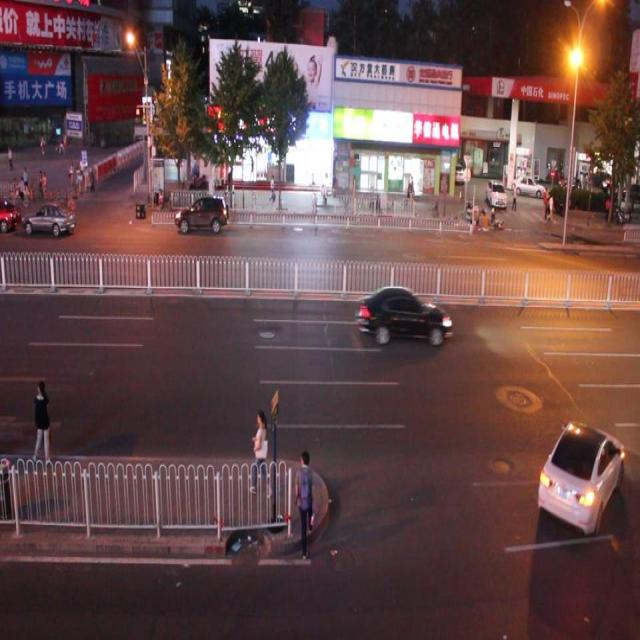car: (535, 418, 622, 532), (356, 281, 450, 346), (173, 192, 229, 232), (22, 200, 75, 240)
